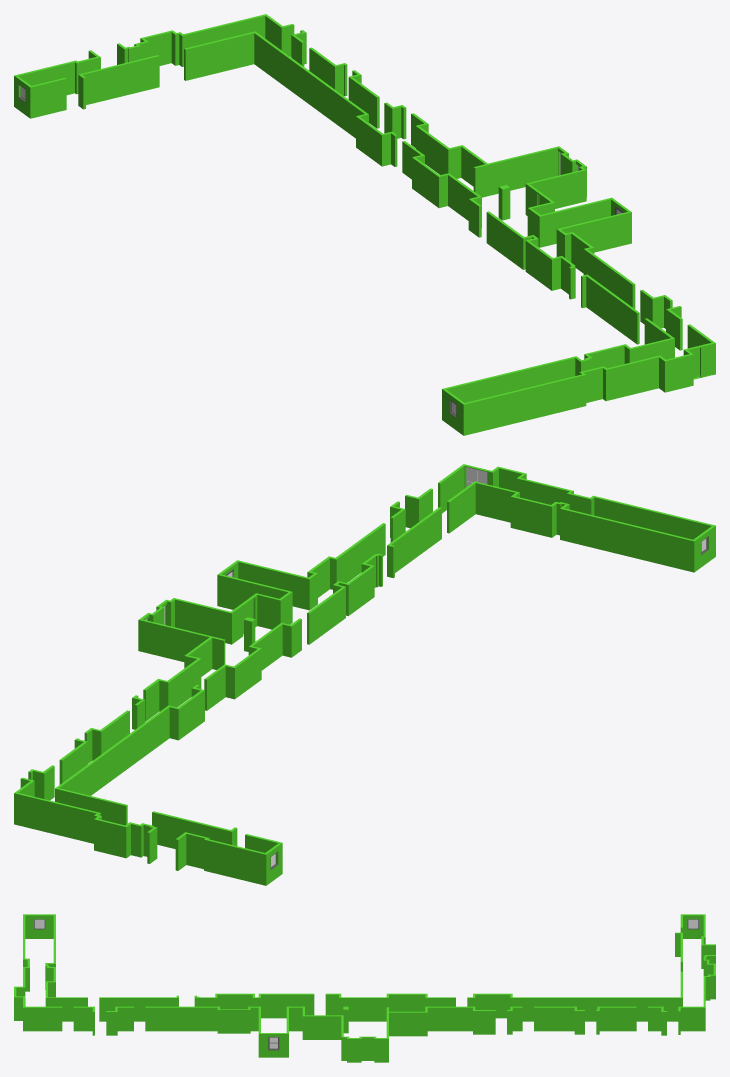
The model's file is SLAM_Hallway.dae.
The picture shows the model from 3 angles, top to bottom: view 1: azimuth 30°, elevation 25°; view 2: azimuth 150°, elevation 25°; view 3: azimuth 270°, elevation 25°; orthographic projection. The views are drawn at different scales.
Visible parts, largest first — view 1: Model (1); view 2: Model (1); view 3: Model (1).
Boxes of the visible parts, x1,y1,x2,y2 form: Model (1): (14, 14, 715, 435); Model (1): (14, 464, 715, 885); Model (1): (14, 914, 715, 1062).
Size of the model in its own units: 26 by 61.82 by 2.3.
